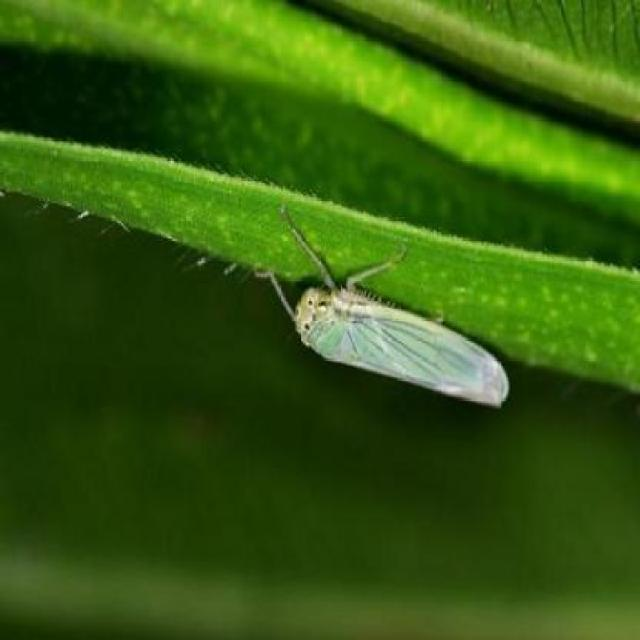green-leafhopper: (285, 236, 513, 407)
